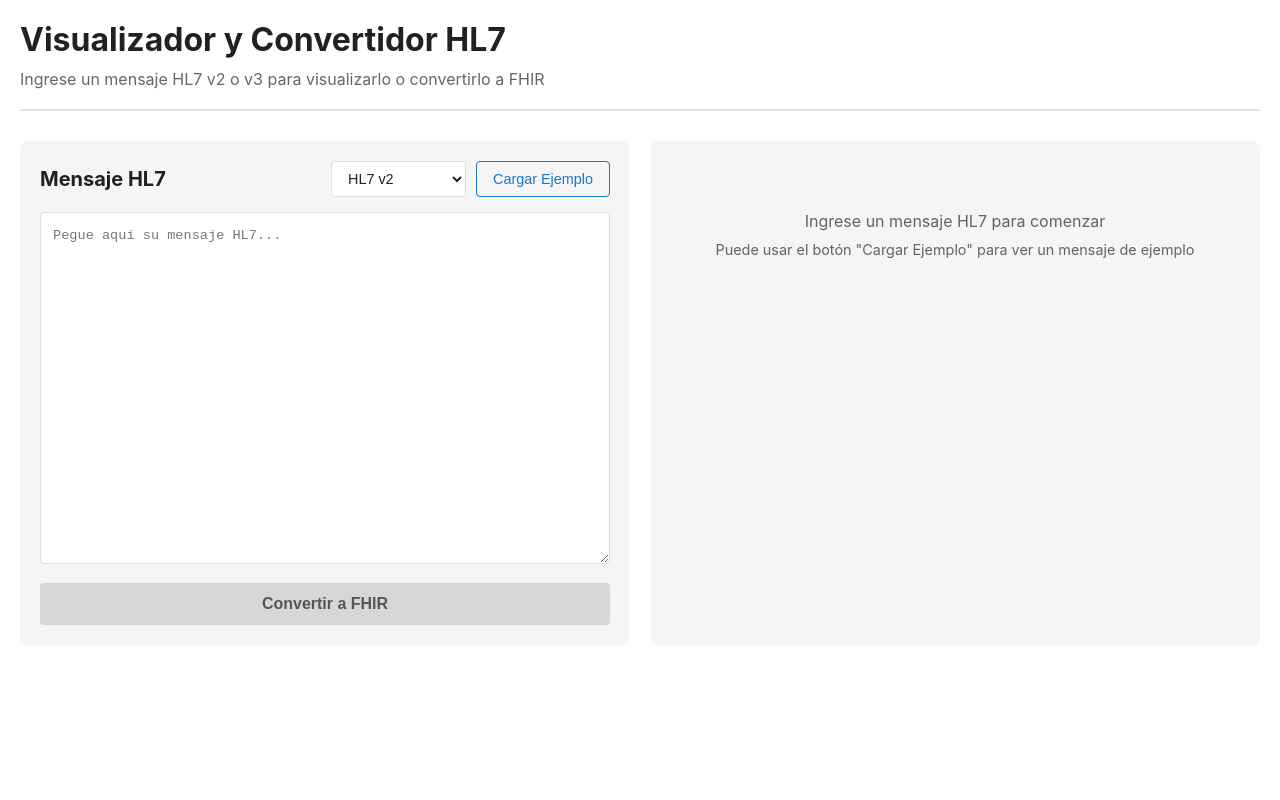
Scenario: Hl7Page › loads example message when button clicked
Click the button "Cargar Ejemplo" at (543, 179), box [476,161,610,197]
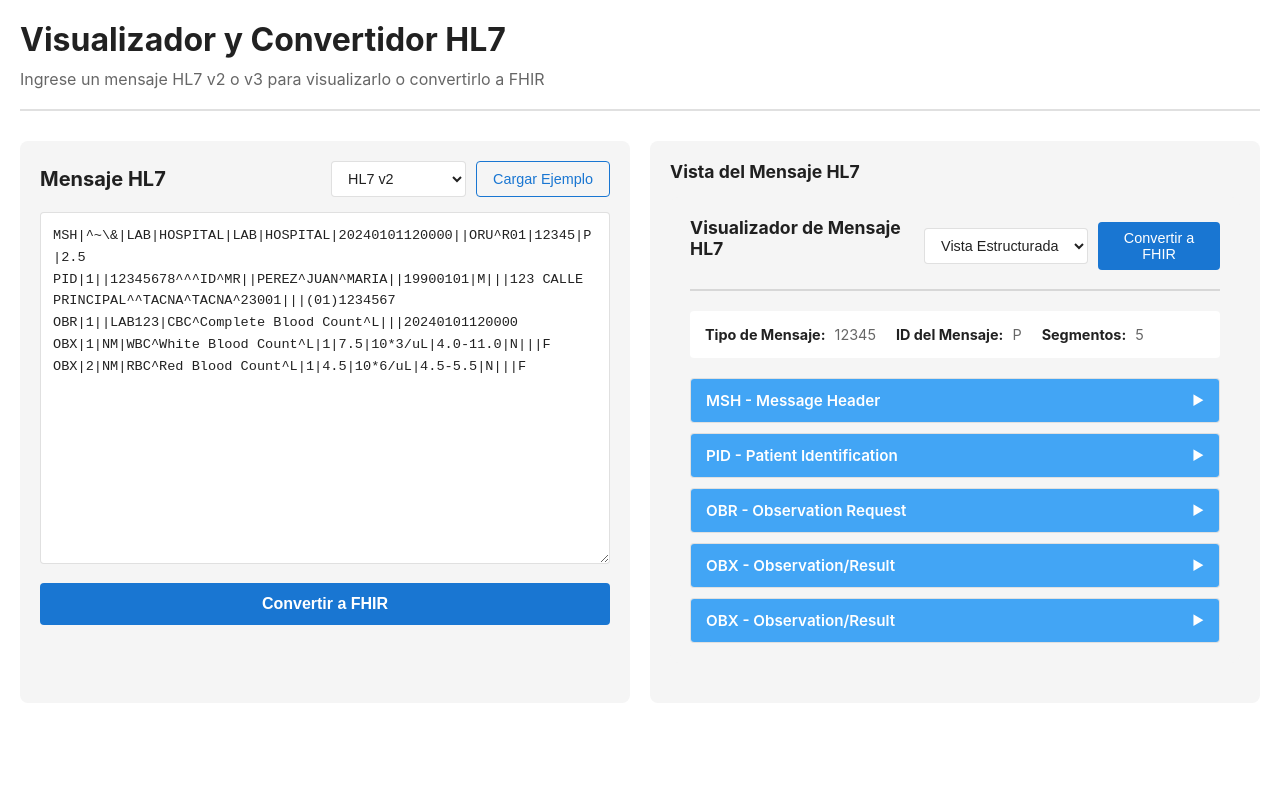
Expected: the text "MSH - Message Header" is shown, [706,391,880,410]
